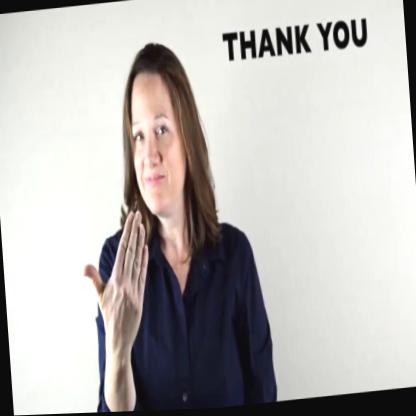ThankYou: (72, 40, 238, 353)
